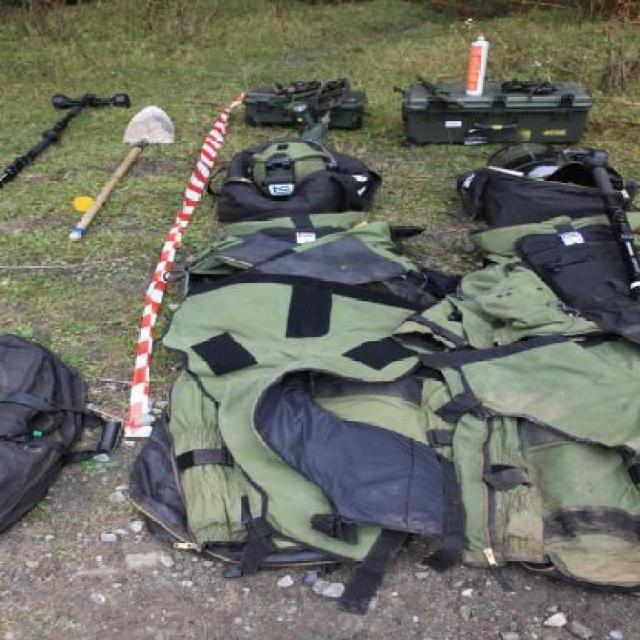backpack: (211, 131, 380, 220)
